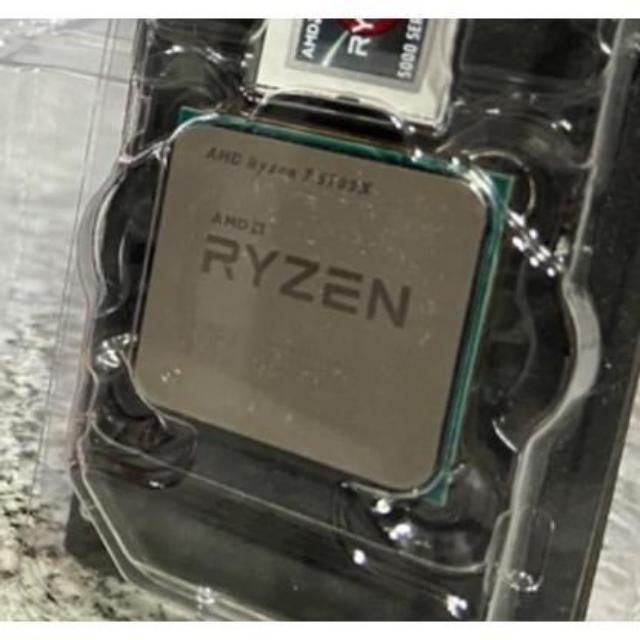CPU: (127, 113, 482, 496)
